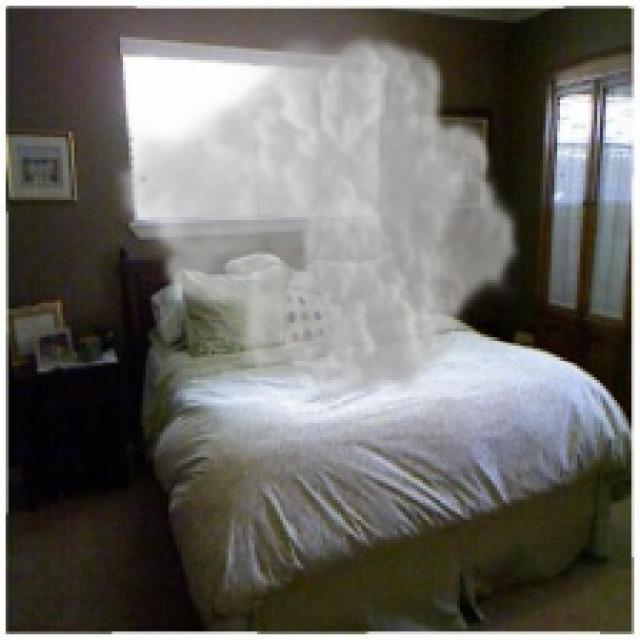smoke: (111, 26, 523, 403)
